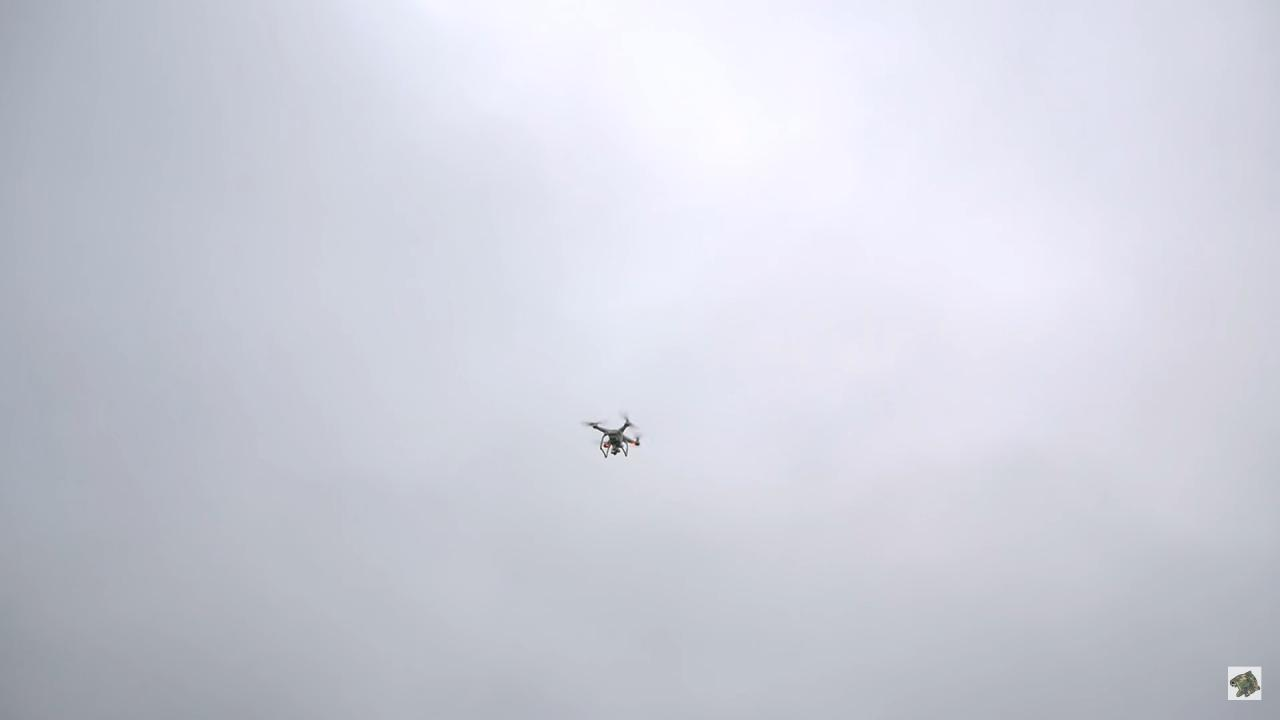Drone: (576, 403, 650, 469)
